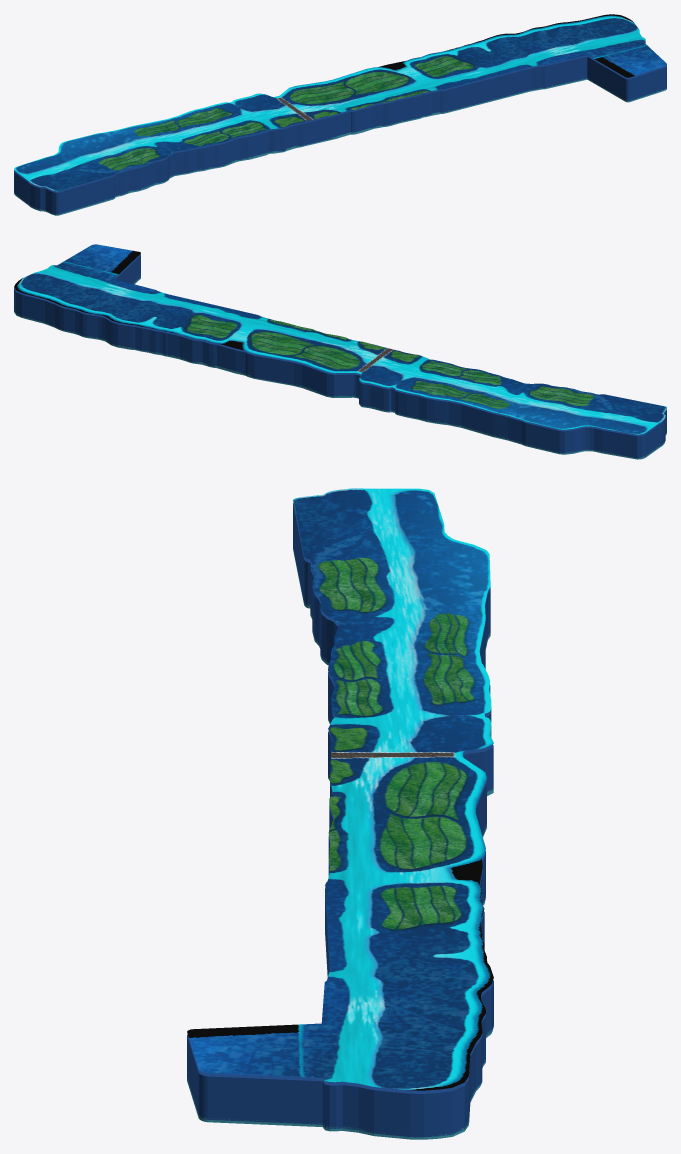
File: testCake.glb
3 views of the same model, one above another, from view 1: azimuth 30°, elevation 25°; view 2: azimuth 150°, elevation 25°; view 3: azimuth 270°, elevation 25° (orthographic). The views are drawn at different scales.
Parts seen in each view (by area): view 1: Curve.001, Curve, Curve.002; view 2: Curve.001, Curve, Curve.002; view 3: Curve.001, Curve, Curve.002.
Boxes of the visible parts, x1,y1,x2,y2 form: Curve.001: [14, 14, 666, 191]; Curve: [14, 40, 666, 214]; Curve.002: [14, 78, 666, 215]; Curve.001: [14, 244, 666, 434]; Curve: [14, 254, 666, 458]; Curve.002: [14, 276, 666, 459]; Curve.001: [187, 488, 493, 1090]; Curve: [187, 503, 493, 1137]; Curve.002: [187, 548, 493, 1139].
Bounding box in the file's own units: 0.5375 × 0.0205 × 0.1157.
3 materials, 1 textured.
